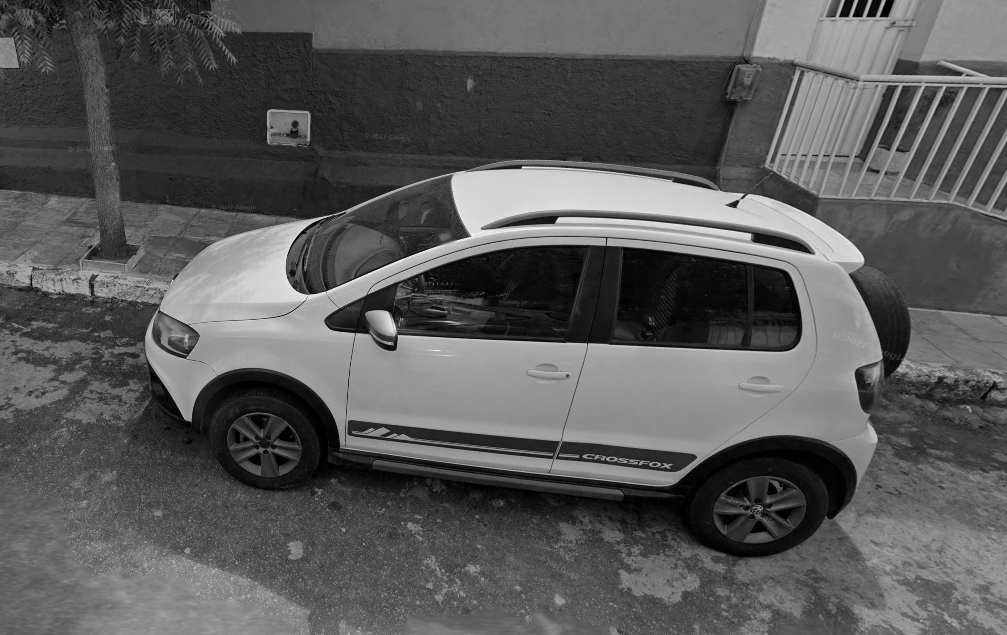car: (139, 144, 917, 571)
